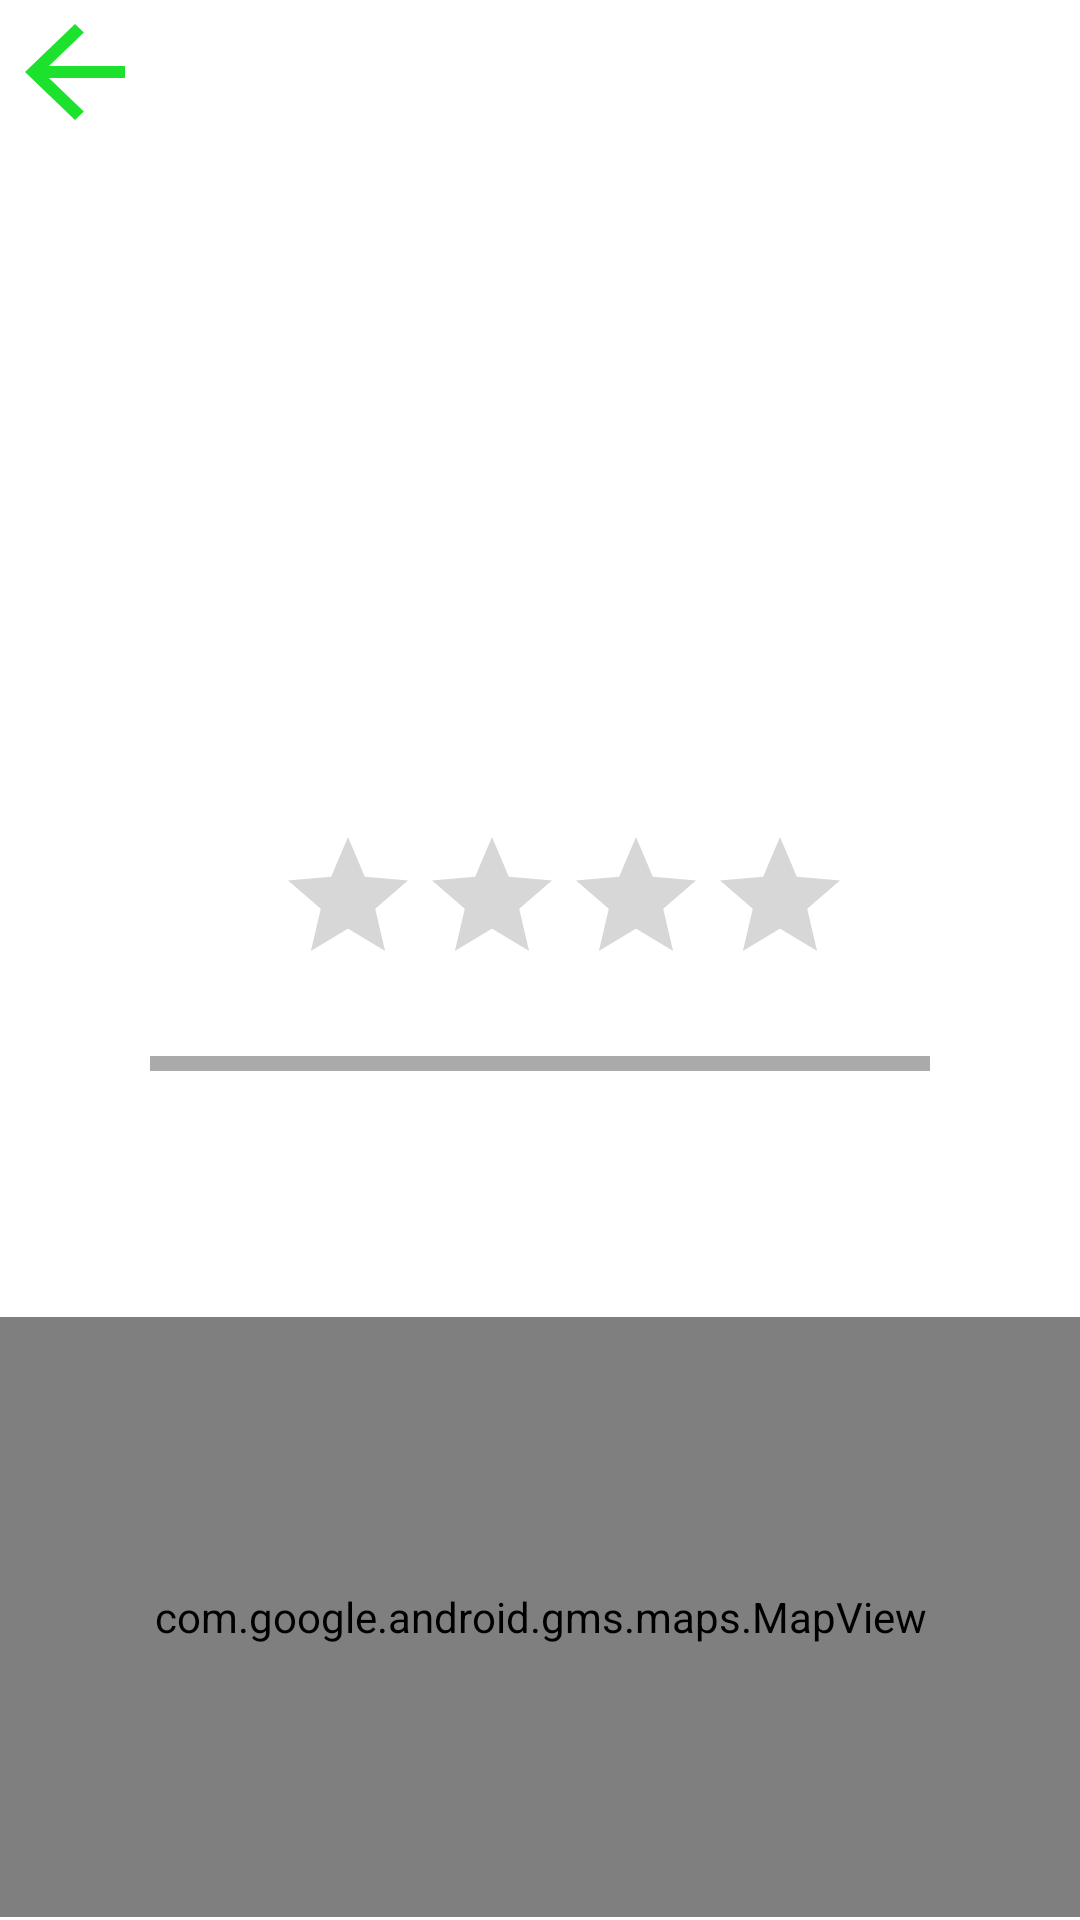

Icons on this 1080px x 1920px Android screen, each with the point to tap as (x,y):
arrow back: (75,72)
